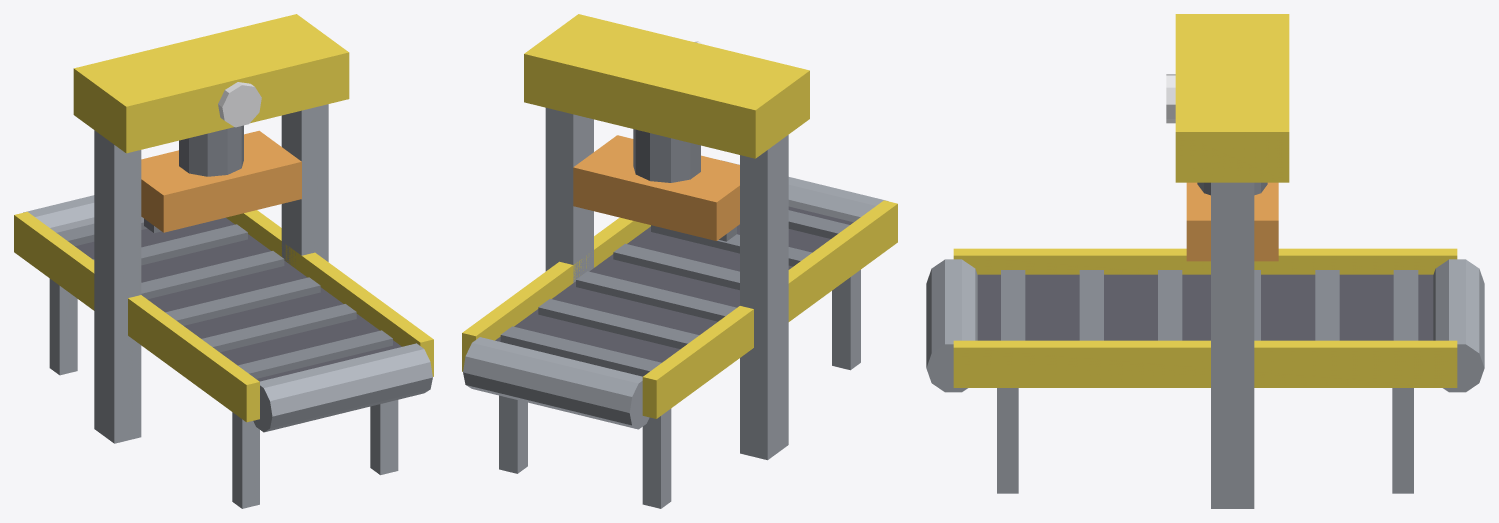
Rendered from press_belt.glb.
3 views of the same model, side by side, from view 1: azimuth 30°, elevation 25°; view 2: azimuth 150°, elevation 25°; view 3: azimuth 270°, elevation 25° (orthographic). The views are drawn at different scales.
Visible parts, largest first — view 1: press_belt; view 2: press_belt; view 3: press_belt.
Boxes of the visible parts, left/top/right/bottom form: press_belt: left=14, top=14, right=433, bottom=508; press_belt: left=462, top=14, right=897, bottom=508; press_belt: left=926, top=14, right=1484, bottom=508.
Size of the model in its own units: 1 by 1.5 by 2.
